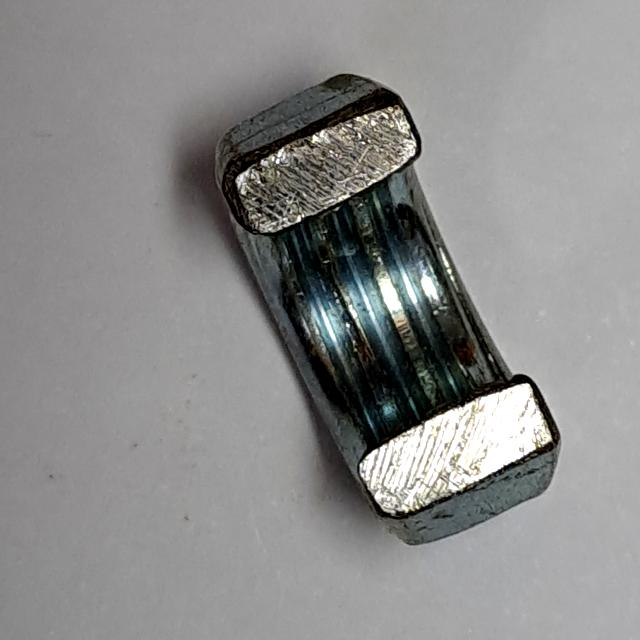Side-Fracture: (203, 59, 575, 564)
